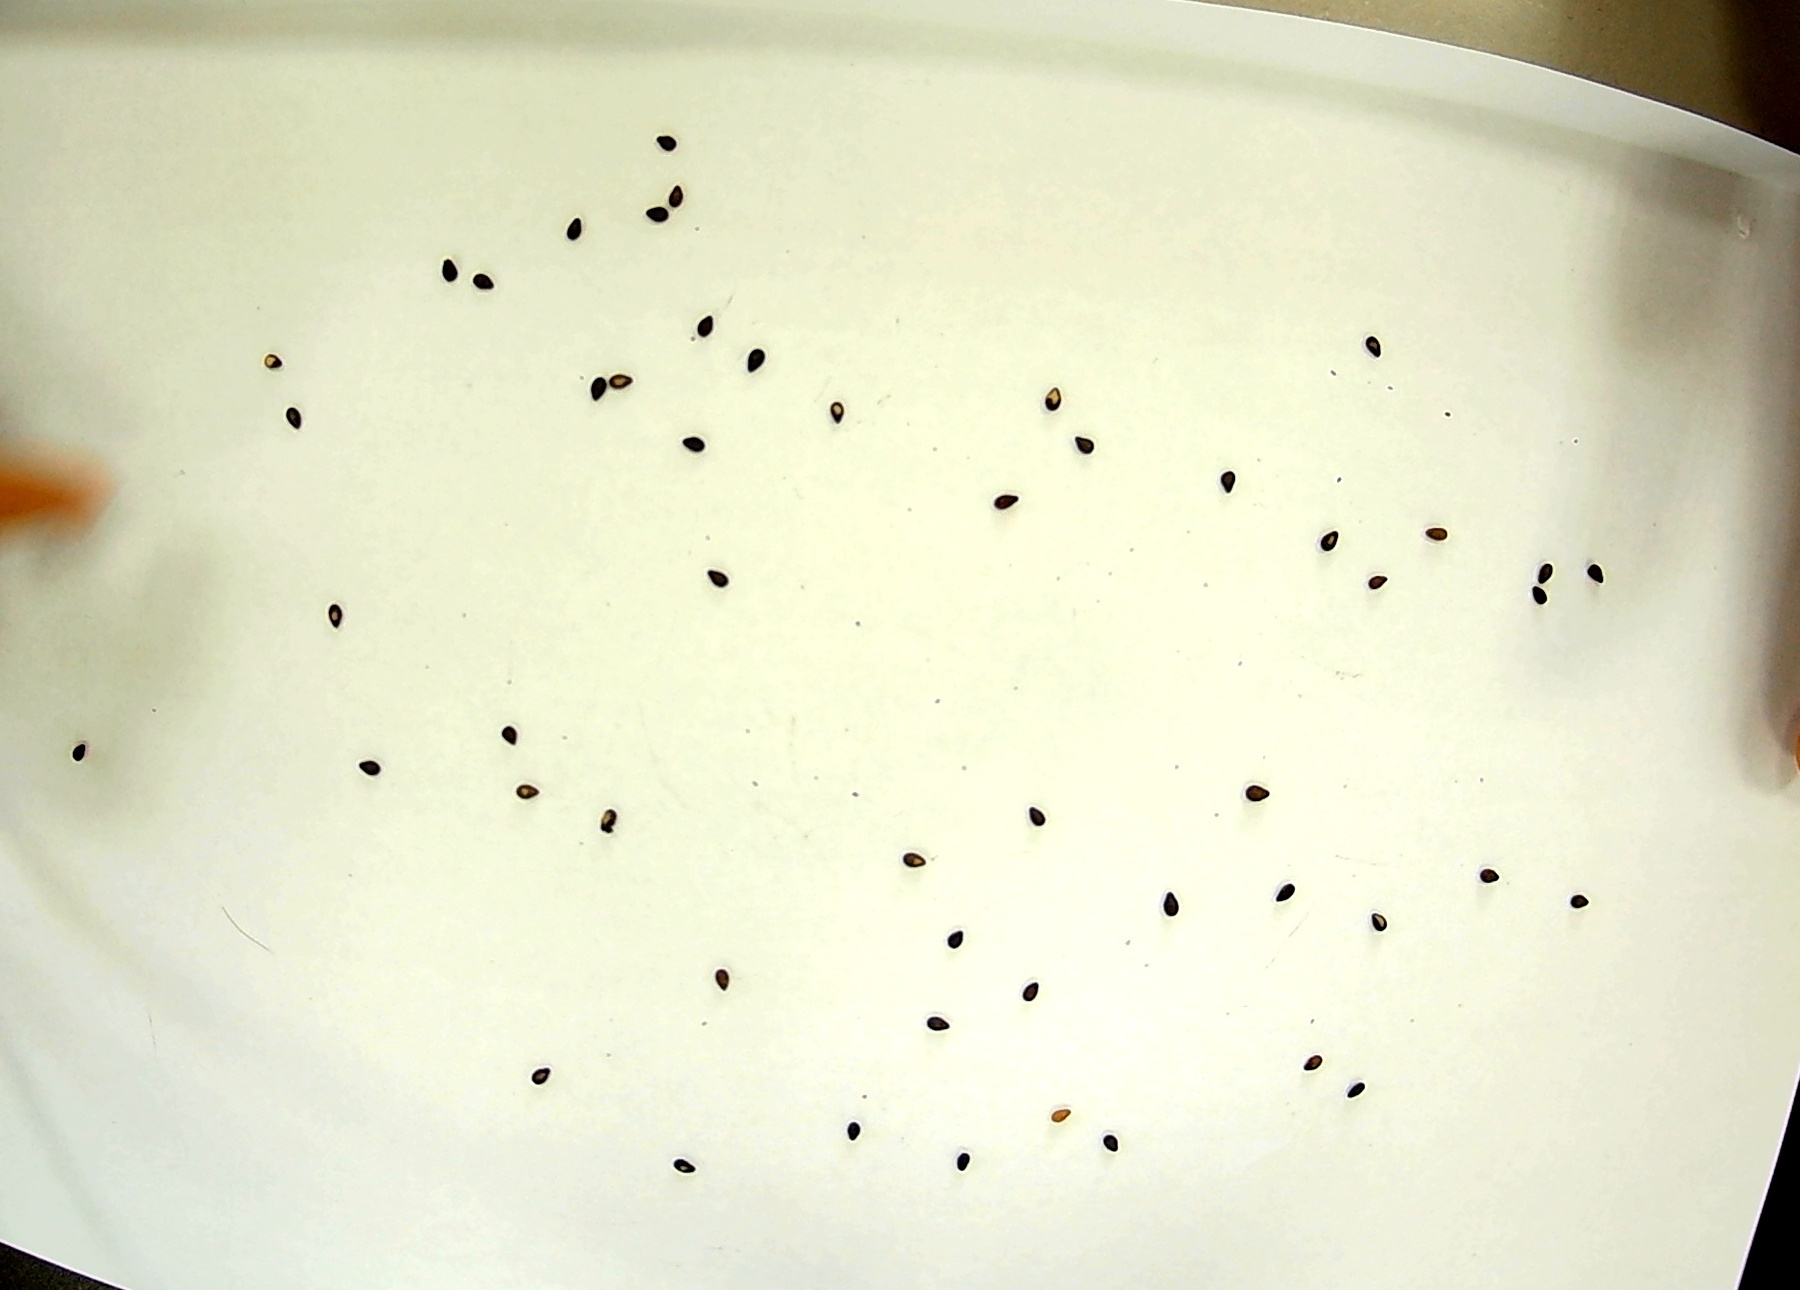sesami: (1069, 433, 1111, 470), (815, 392, 855, 430), (682, 304, 723, 342), (684, 307, 726, 343), (1034, 378, 1074, 415), (742, 346, 783, 383), (633, 202, 673, 237), (654, 119, 693, 154), (260, 341, 299, 376), (569, 373, 608, 408), (1207, 468, 1246, 503), (1360, 322, 1400, 357), (1299, 528, 1338, 563), (1566, 882, 1605, 917), (1268, 875, 1307, 910), (1232, 778, 1271, 813), (1041, 1097, 1080, 1132), (1284, 1041, 1323, 1076), (700, 958, 740, 993), (590, 803, 629, 838), (508, 778, 547, 813), (315, 595, 354, 630), (61, 734, 100, 769), (668, 180, 707, 214), (652, 117, 691, 151), (562, 209, 601, 243), (473, 267, 512, 300), (431, 243, 470, 276), (273, 395, 313, 429), (611, 364, 650, 398), (670, 426, 709, 459), (996, 489, 1035, 522), (1347, 561, 1386, 595), (1422, 519, 1461, 553), (1527, 551, 1566, 585), (1522, 584, 1561, 617), (1578, 558, 1617, 592), (1469, 866, 1508, 899), (1155, 888, 1194, 921), (1014, 792, 1053, 825), (1014, 970, 1053, 1004), (927, 923, 966, 956), (893, 843, 932, 877), (920, 993, 959, 1026), (1095, 1128, 1134, 1162), (1337, 1068, 1376, 1102), (950, 1146, 989, 1180), (949, 1145, 988, 1178), (834, 1117, 873, 1150), (661, 1155, 700, 1188), (500, 723, 539, 757), (703, 563, 742, 596), (359, 746, 398, 779), (520, 1061, 560, 1095), (1358, 910, 1395, 944)
